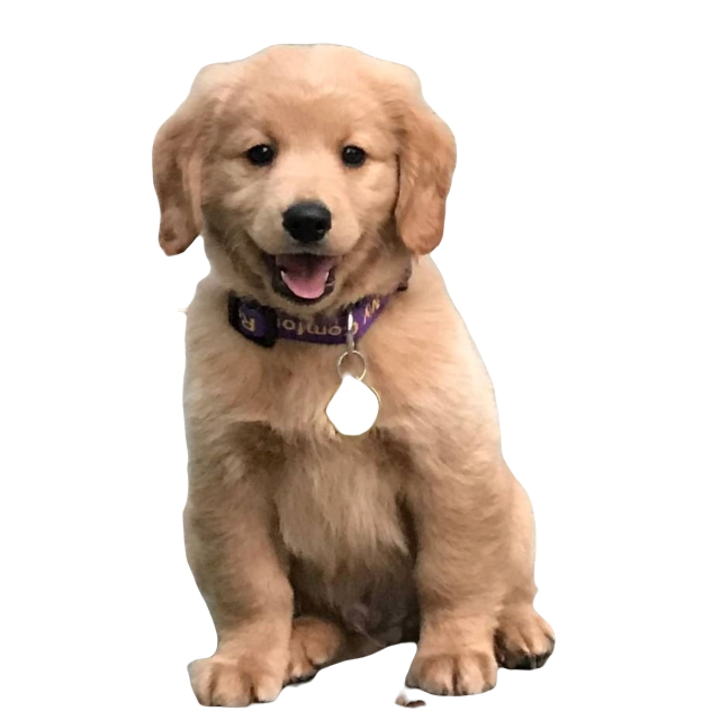Dog: (148, 37, 557, 711)
